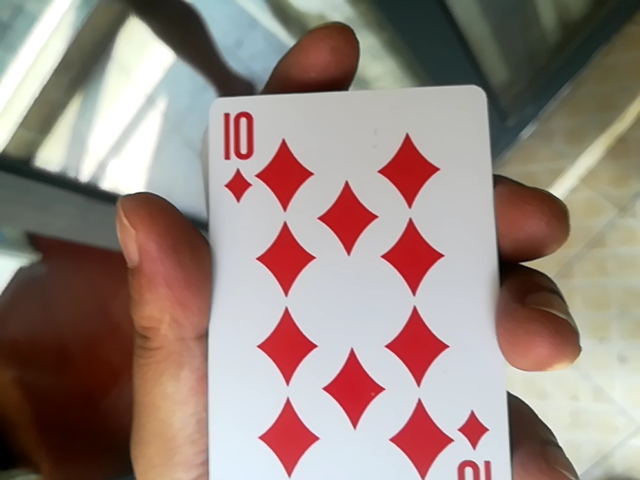fk 10: (181, 56, 497, 479)
